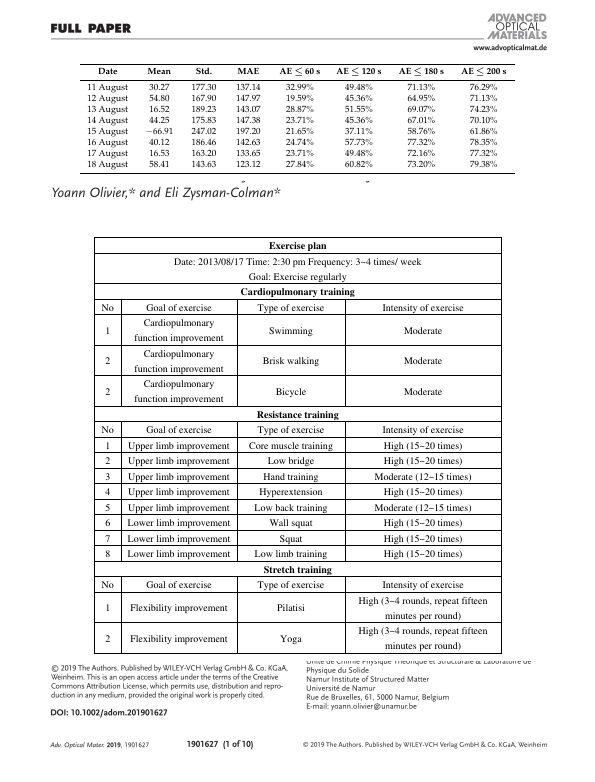bordered: (93, 235, 501, 653)
borderless: (79, 62, 515, 173)
cell: (172, 255, 422, 283), (357, 624, 488, 653), (357, 594, 488, 622), (133, 316, 224, 345), (133, 347, 224, 375), (133, 378, 224, 406), (239, 285, 355, 299), (126, 516, 231, 530), (126, 454, 230, 468), (126, 532, 231, 545), (126, 548, 231, 561), (126, 439, 230, 452), (126, 470, 230, 483), (126, 486, 230, 499), (126, 501, 230, 514), (373, 470, 472, 483), (373, 501, 472, 514), (129, 602, 228, 615), (129, 632, 228, 645), (381, 423, 464, 437), (382, 454, 463, 468), (382, 516, 463, 530), (247, 439, 333, 452), (255, 408, 339, 421), (381, 301, 464, 314), (381, 579, 464, 592), (382, 439, 463, 452), (382, 486, 463, 499), (382, 532, 463, 545), (382, 548, 463, 561), (253, 501, 328, 514), (253, 548, 328, 561), (256, 423, 325, 437), (145, 423, 212, 437), (262, 563, 332, 576), (256, 301, 325, 314), (256, 579, 325, 592), (145, 301, 212, 314), (145, 579, 212, 592), (258, 486, 323, 499), (267, 239, 327, 253), (261, 354, 320, 368), (262, 470, 319, 483), (266, 454, 315, 468), (268, 516, 313, 530), (267, 324, 313, 337), (402, 354, 443, 368), (402, 324, 443, 337), (402, 385, 443, 398), (335, 67, 382, 77), (397, 67, 444, 77), (460, 67, 507, 77), (86, 83, 128, 94), (86, 94, 128, 105), (86, 105, 128, 116), (86, 116, 128, 127), (86, 127, 128, 138), (86, 138, 128, 149), (86, 149, 128, 160), (86, 160, 128, 171), (278, 67, 321, 77), (274, 385, 307, 398), (275, 602, 305, 615), (343, 83, 373, 94), (406, 83, 436, 94), (468, 83, 498, 94), (343, 94, 373, 105), (406, 94, 436, 105), (468, 94, 498, 105), (343, 105, 373, 116), (406, 105, 436, 116), (468, 105, 498, 116), (343, 116, 373, 127), (406, 116, 436, 127), (468, 116, 498, 127), (144, 127, 174, 138), (343, 127, 373, 138), (406, 127, 436, 138), (468, 127, 498, 138), (343, 138, 373, 149), (406, 138, 436, 149), (468, 138, 498, 149), (343, 149, 373, 160), (406, 149, 436, 160), (468, 149, 498, 160), (343, 160, 373, 171), (406, 160, 436, 171), (468, 160, 498, 171), (278, 532, 303, 545), (285, 83, 314, 94), (285, 94, 314, 105), (285, 105, 314, 116), (285, 116, 314, 127), (285, 127, 314, 138), (285, 138, 314, 149), (285, 149, 314, 160), (285, 160, 314, 171), (278, 632, 302, 645), (190, 83, 217, 94), (234, 83, 261, 94), (190, 94, 217, 105), (234, 94, 261, 105), (190, 105, 217, 116), (234, 105, 261, 116), (190, 116, 217, 127), (234, 116, 261, 127), (190, 127, 217, 138), (234, 127, 261, 138), (190, 138, 217, 149), (234, 138, 261, 149), (190, 149, 217, 160), (234, 149, 261, 160), (190, 160, 217, 171), (234, 160, 261, 171), (148, 83, 170, 94), (148, 94, 170, 105), (148, 105, 170, 116), (148, 116, 170, 127), (148, 138, 170, 149), (148, 149, 170, 160), (148, 160, 170, 171), (146, 67, 172, 75), (100, 423, 114, 437), (236, 67, 259, 75), (100, 301, 114, 314), (100, 579, 114, 592), (96, 67, 118, 75), (194, 67, 212, 75), (104, 354, 111, 368), (104, 454, 111, 468), (104, 516, 111, 530), (104, 324, 111, 337), (104, 385, 111, 398), (104, 439, 111, 452), (104, 470, 111, 483), (104, 486, 111, 499), (104, 501, 111, 514), (104, 532, 111, 545), (104, 548, 111, 561), (104, 602, 111, 615), (104, 632, 111, 645)
